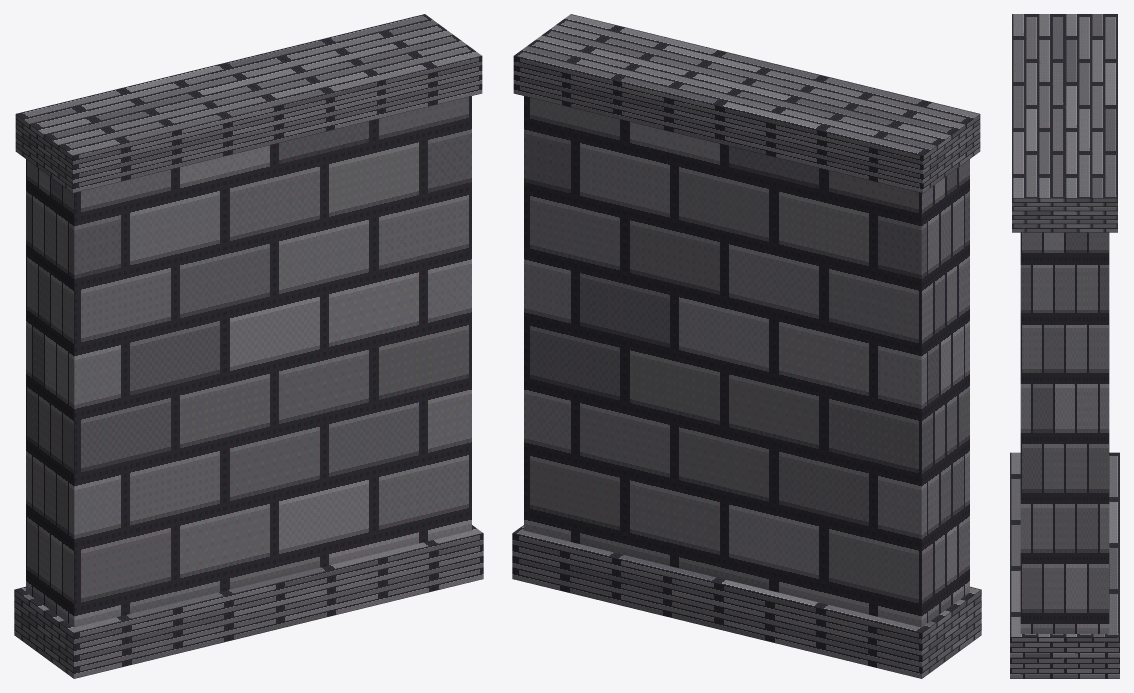
The model's file is catacumba_parede.glb.
3 views of the same model, side by side, from view 1: azimuth 30°, elevation 25°; view 2: azimuth 150°, elevation 25°; view 3: azimuth 270°, elevation 25° (orthographic). The views are drawn at different scales.
Visible parts, largest first — view 1: catacumba_parede; view 2: catacumba_parede; view 3: catacumba_parede.
Boxes of the visible parts, bbox=[...] form: catacumba_parede: bbox=[14, 14, 483, 678]; catacumba_parede: bbox=[512, 14, 981, 678]; catacumba_parede: bbox=[1010, 14, 1119, 678].
Size of the model in its own units: 2.06 by 2.51 by 0.52.
1 material, 1 textured.
